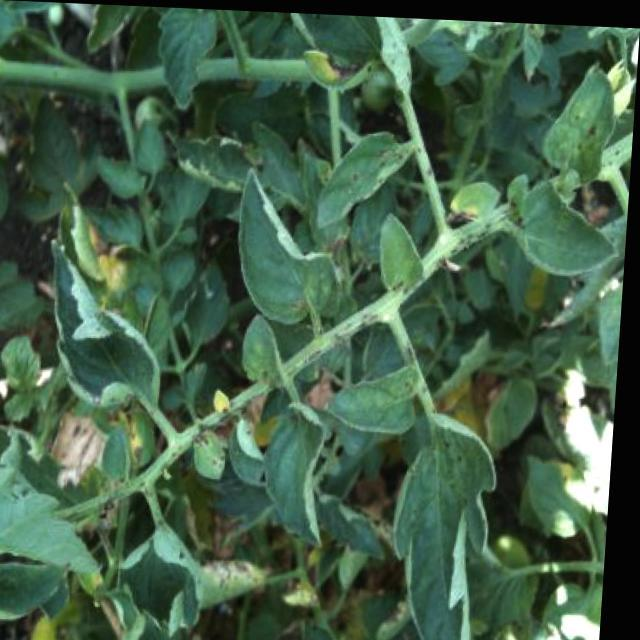Tomato late blight leaf: (26, 226, 200, 451), (388, 411, 525, 639), (228, 174, 356, 326), (484, 177, 626, 282), (536, 52, 634, 195), (313, 110, 422, 231), (315, 350, 442, 453), (182, 419, 240, 492)
